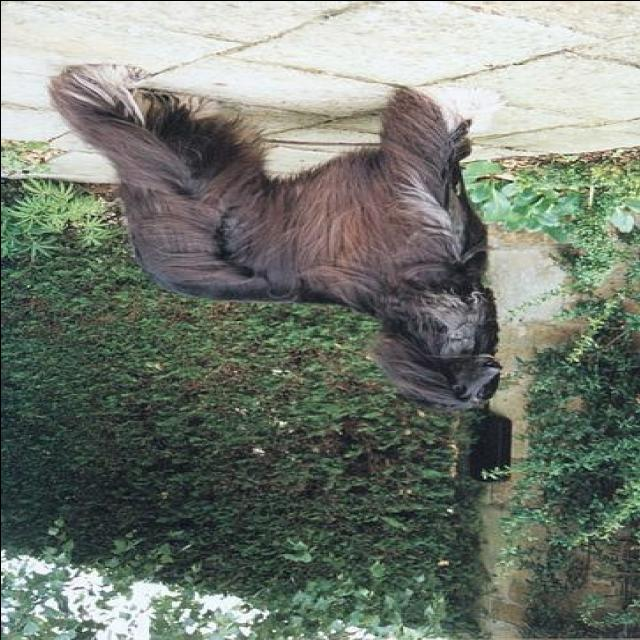afghan_hound: (41, 63, 497, 402)
